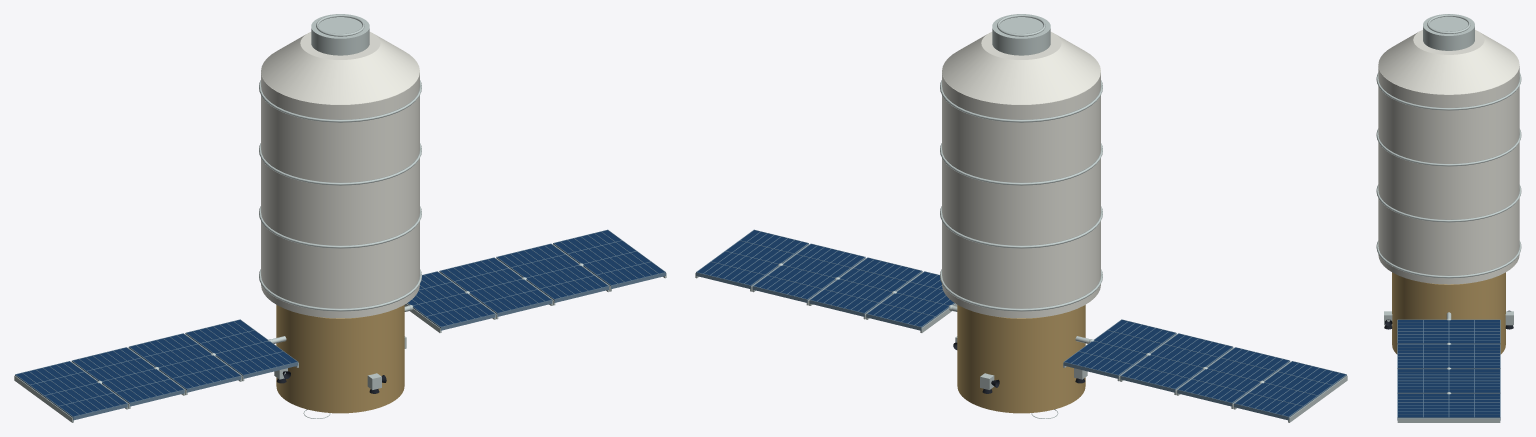
The model's file is tianzhou.glb.
The picture shows the model from 3 angles, left to right: view 1: azimuth 30°, elevation 25°; view 2: azimuth 150°, elevation 25°; view 3: azimuth 270°, elevation 25°; orthographic projection. The views are drawn at different scales.
Visible parts, largest first — view 1: payload, photovoltaic-panel (×8), service, solar (×8), docking; view 2: payload, photovoltaic-panel (×8), service, solar (×8), docking; view 3: payload, photovoltaic-panel (×4), service, solar (×4), docking.
Part boxes in pixels (x1,y1,x2,y2): payload: (259, 32, 421, 318); photovoltaic-panel (×8): (16, 230, 664, 416); service: (274, 305, 406, 418); solar (×8): (14, 229, 666, 422); docking: (311, 14, 369, 55); payload: (940, 32, 1102, 318); photovoltaic-panel (×8): (697, 230, 1345, 416); service: (953, 305, 1087, 418); solar (×8): (695, 229, 1347, 422); docking: (992, 14, 1050, 55); payload: (1376, 30, 1521, 284); photovoltaic-panel (×4): (1398, 320, 1499, 417); service: (1384, 272, 1513, 354); solar (×4): (1397, 319, 1500, 422); docking: (1423, 14, 1474, 50).
Bounding box in the file's own units: 8.89 × 5.48 × 2.12.
